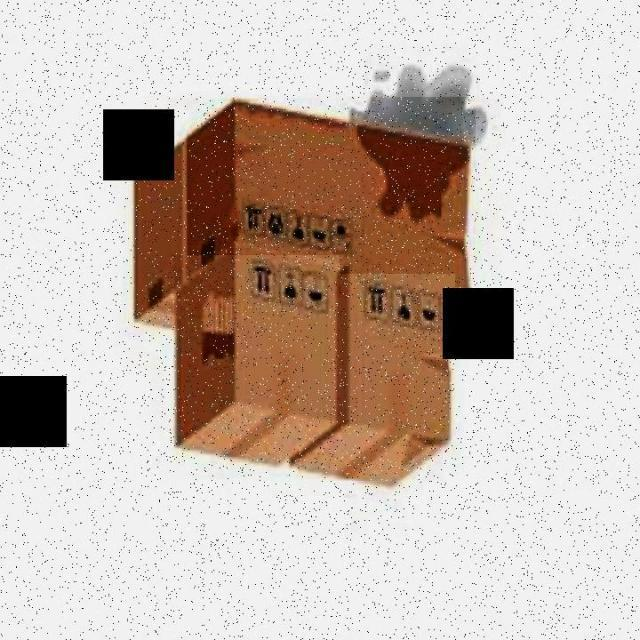box: (187, 97, 476, 306), (174, 256, 340, 467), (298, 272, 456, 490)
